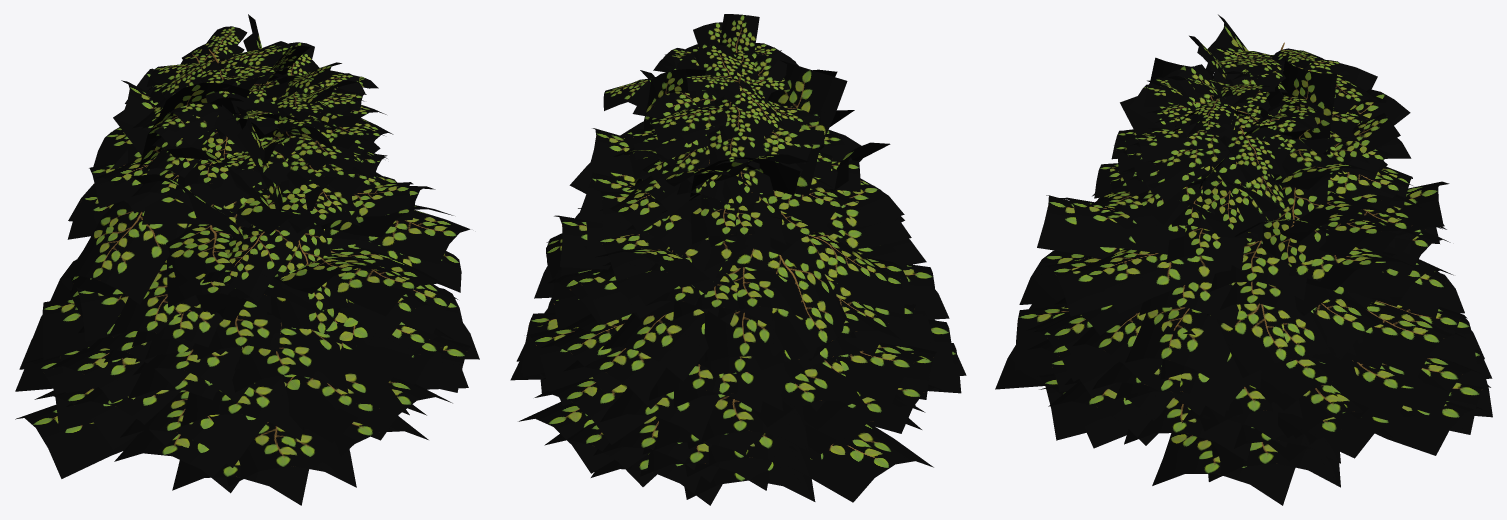
The model's file is Bush2.fbx.
The picture shows the model from 3 angles, left to right: view 1: azimuth 30°, elevation 25°; view 2: azimuth 150°, elevation 25°; view 3: azimuth 270°, elevation 25°; orthographic projection. The views are drawn at different scales.
Parts seen in each view (by area): view 1: Bush2_LOD0; view 2: Bush2_LOD0; view 3: Bush2_LOD0.
Boxes of the visible parts, left/top/right/bottom form: Bush2_LOD0: left=15, top=14, right=479, bottom=505; Bush2_LOD0: left=510, top=14, right=966, bottom=505; Bush2_LOD0: left=995, top=14, right=1492, bottom=505.
Bounding box in the file's own units: 327 × 354 × 315.
2 materials, 2 textured.
